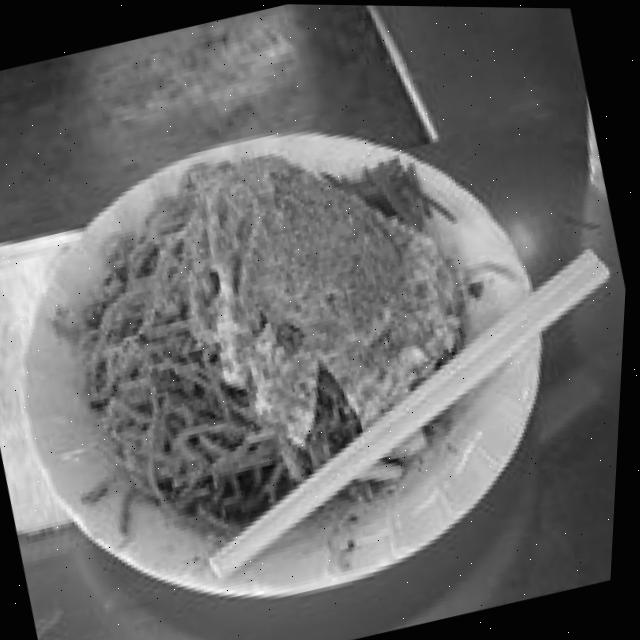面条主食: (0, 24, 639, 640)
